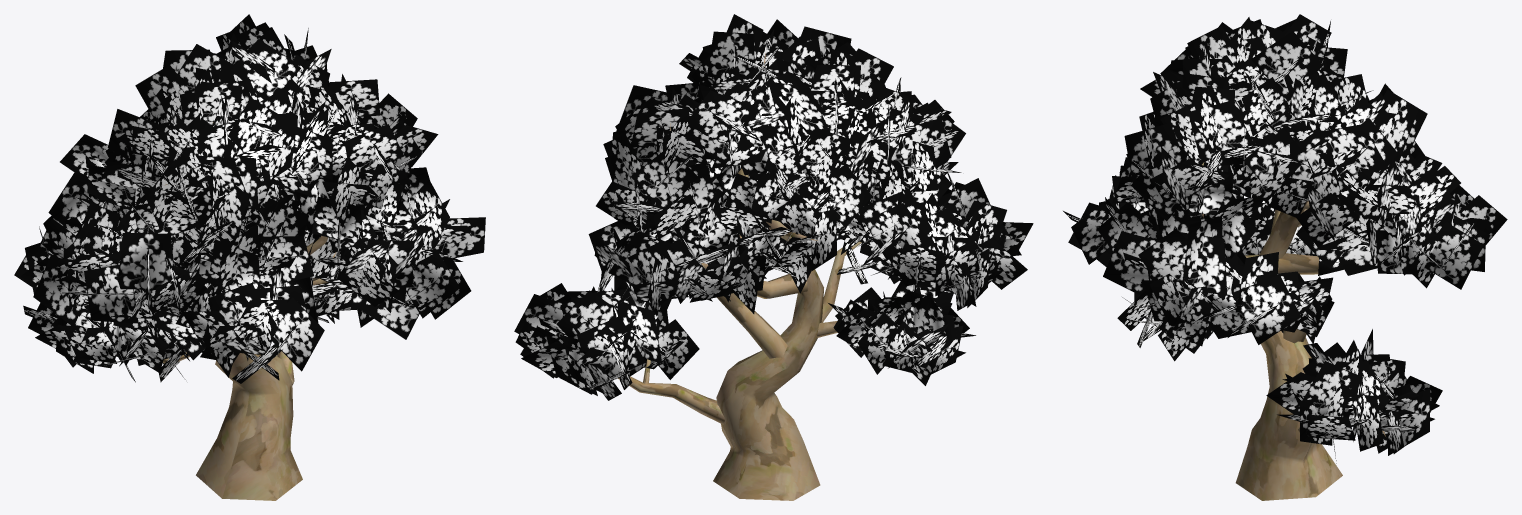
The model's file is P_KnotwoodTree03_Gold.obj.
The picture shows the model from 3 angles, left to right: view 1: azimuth 30°, elevation 25°; view 2: azimuth 150°, elevation 25°; view 3: azimuth 270°, elevation 25°; orthographic projection.
Bounding box in the file's own units: 23.87 × 22.76 × 20.63.
